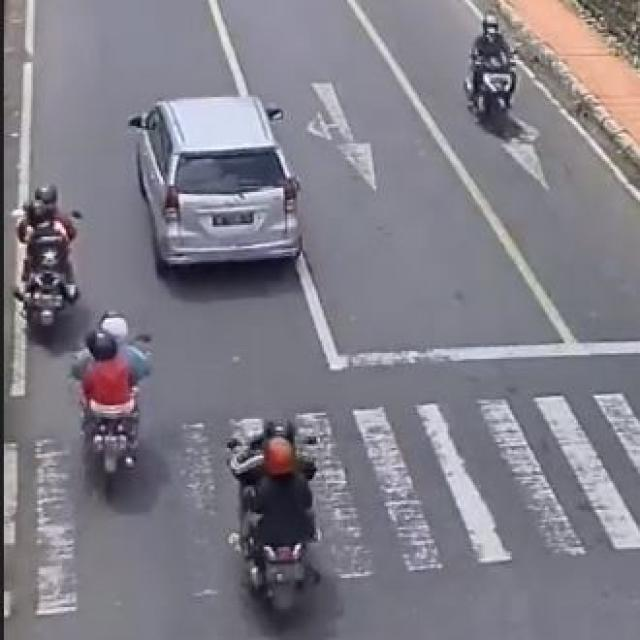car: (123, 96, 320, 284)
motorbike: (230, 394, 334, 624), (13, 150, 82, 359), (85, 317, 148, 498), (452, 15, 519, 150)
